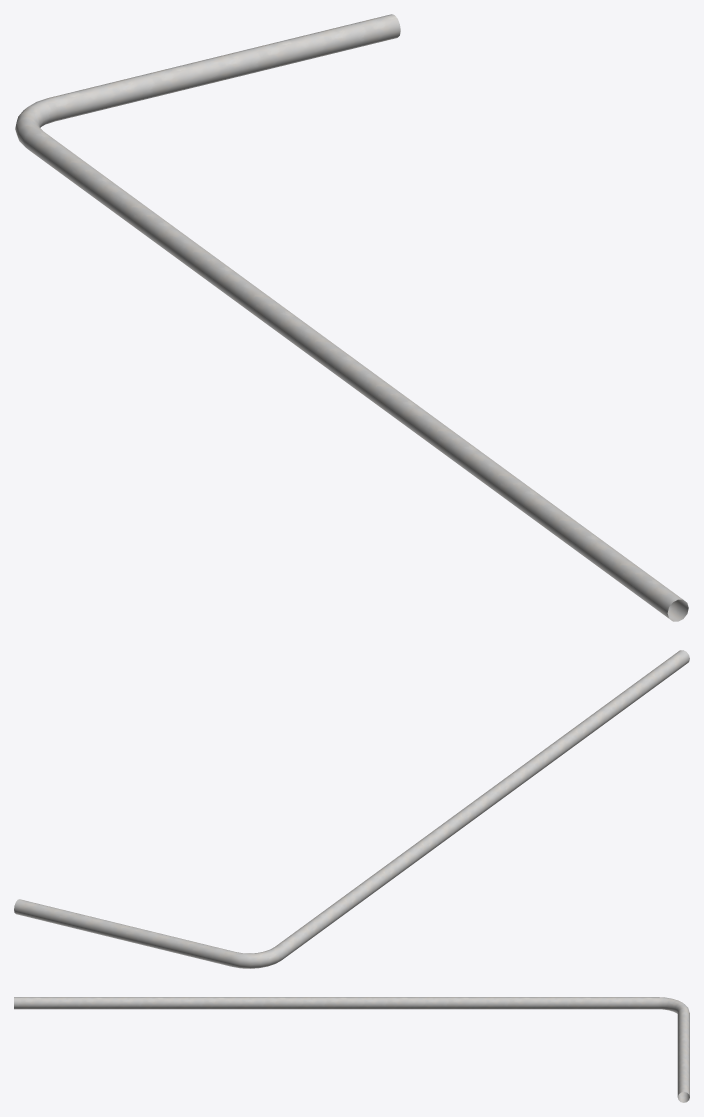
File: Pipe__15.fbx
3 renders of one model, top to bottom at view 1: azimuth 30°, elevation 25°; view 2: azimuth 150°, elevation 25°; view 3: azimuth 270°, elevation 25°, orthographic. The views are drawn at different scales.
Visible parts, largest first — view 1: Pipe_Grey; view 2: Pipe_Grey; view 3: Pipe_Grey.
Part boxes in pixels (x1=…): Pipe_Grey: x1=15, y1=14, x2=688, y2=621; Pipe_Grey: x1=14, y1=650, x2=689, y2=968; Pipe_Grey: x1=14, y1=997, x2=689, y2=1102.
Bounding box in the file's own units: 3.75 × 0.2 × 11.06.
Materials: 1 (1 with a texture image).
